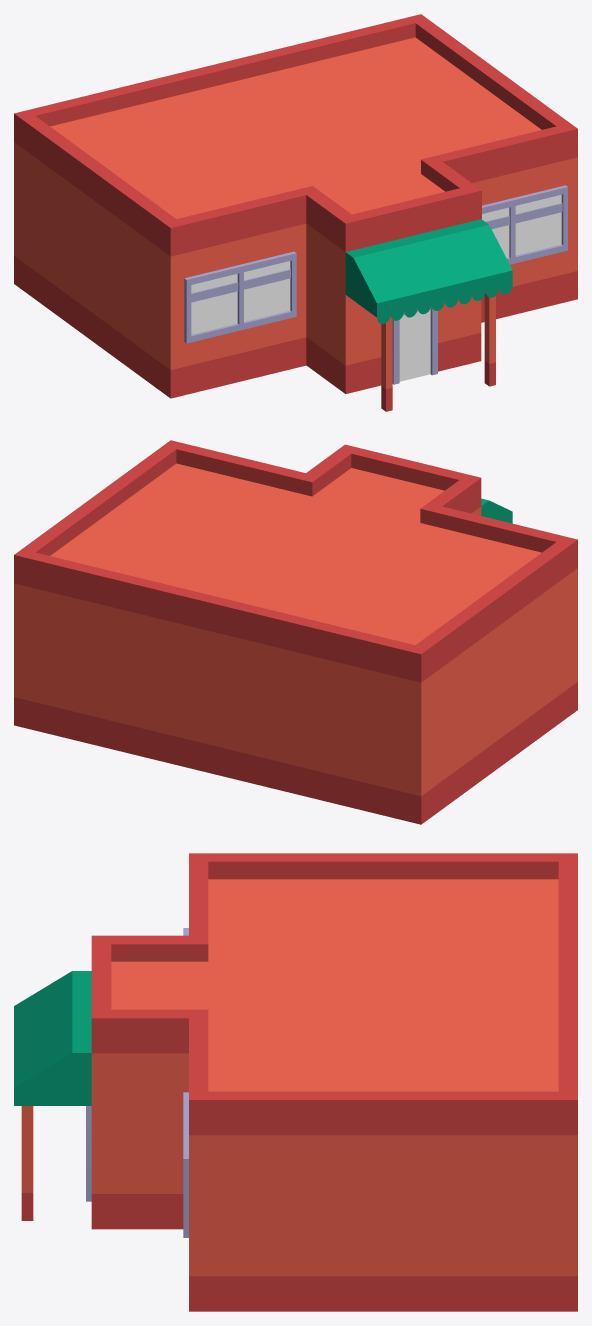
The model's file is Building-1.fbx.
3 renders of one model, top to bottom at view 1: azimuth 30°, elevation 25°; view 2: azimuth 150°, elevation 25°; view 3: azimuth 270°, elevation 25°, orthographic. The views are drawn at different scales.
Visible parts, largest first — view 1: mergedBlocks; view 2: mergedBlocks; view 3: mergedBlocks.
Boxes of the visible parts, bbox=[...] form: mergedBlocks: bbox=[14, 14, 577, 411]; mergedBlocks: bbox=[14, 440, 577, 824]; mergedBlocks: bbox=[14, 853, 577, 1311].
Bounding box in the file's own units: 30 × 12 × 29.
